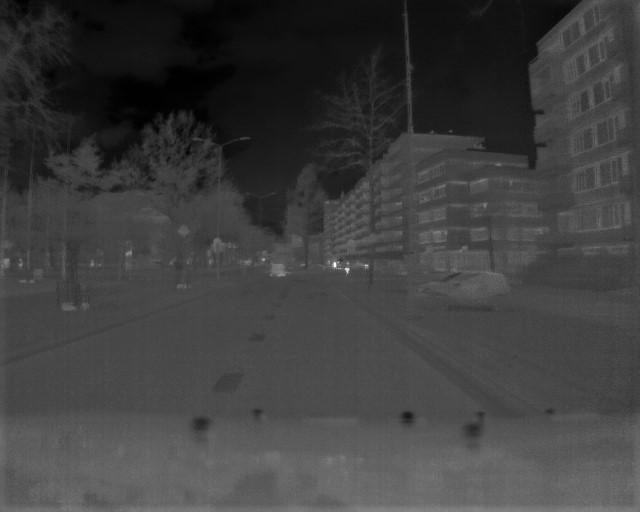car: (416, 266, 511, 311), (268, 261, 290, 278)
person: (342, 260, 351, 278)
